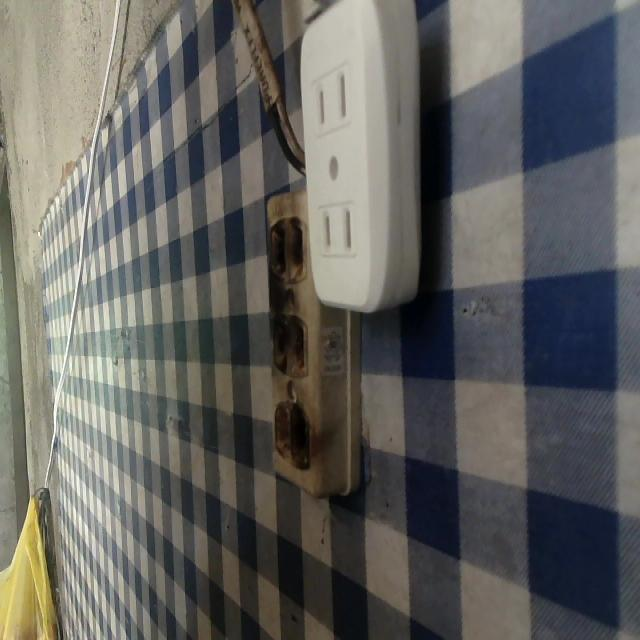-: (261, 399, 326, 477), (259, 308, 322, 376), (262, 212, 309, 296)
